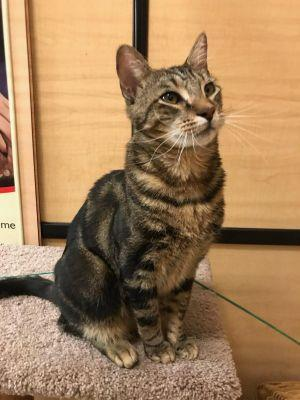bengal: (111, 30, 240, 159)
